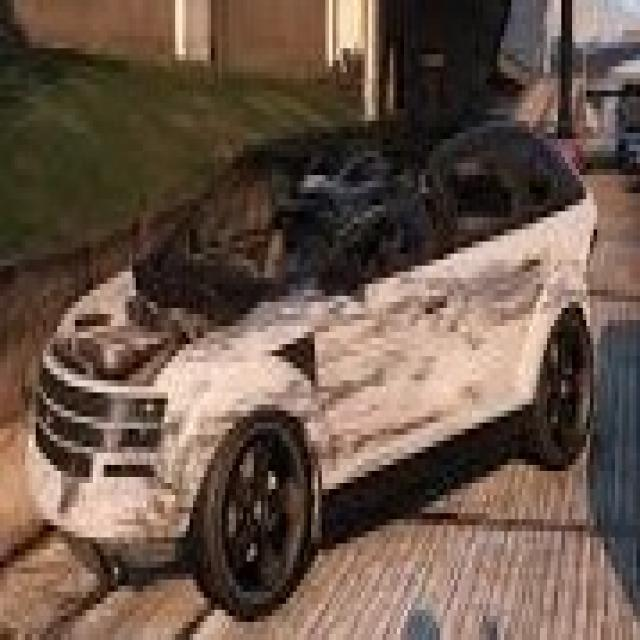severe: (44, 125, 625, 554)
